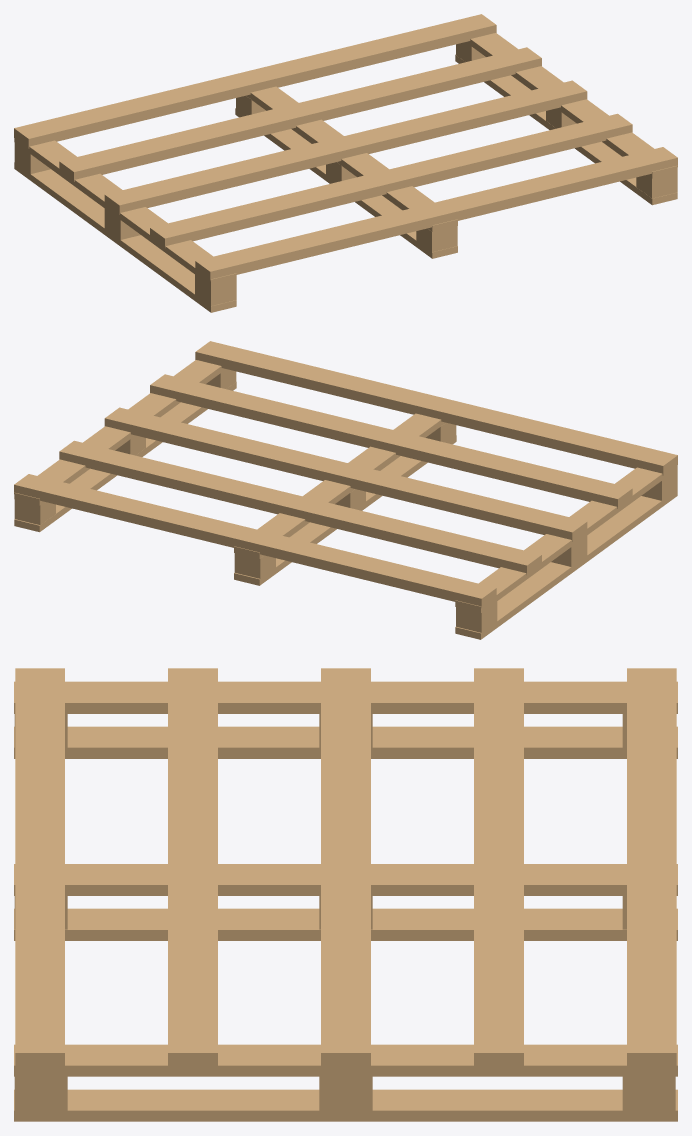
Rendered from wooden pallete.fbx.
3 renders of one model, top to bottom at view 1: azimuth 30°, elevation 25°; view 2: azimuth 150°, elevation 25°; view 3: azimuth 270°, elevation 25°, orthographic. The views are drawn at different scales.
Visible parts, largest first — view 1: Cube.016; view 2: Cube.016; view 3: Cube.016.
Boxes of the visible parts, <box> form: Cube.016: <box>14,14,677,312</box>; Cube.016: <box>14,341,677,639</box>; Cube.016: <box>14,668,677,1121</box>.
Size of the model in its own units: 595 by 49.84 by 434.
